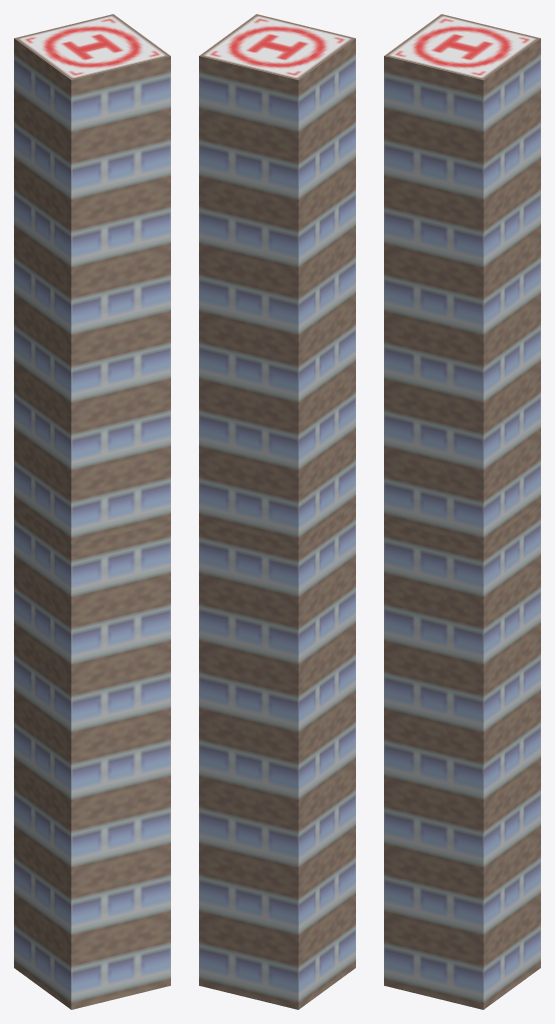
File: saffron5.glb
The picture shows the model from 3 angles, left to right: view 1: azimuth 30°, elevation 25°; view 2: azimuth 150°, elevation 25°; view 3: azimuth 330°, elevation 25°; orthographic projection.
Visible parts, largest first — view 1: city.004; view 2: city.004; view 3: city.004.
Boxes of the visible parts, x1=… form: city.004: x1=14, y1=14, x2=170, y2=1009; city.004: x1=199, y1=14, x2=355, y2=1009; city.004: x1=384, y1=14, x2=540, y2=1009.
Bounding box in the file's own units: 0.966 × 8.63 × 0.966.
1 material, 1 textured.
